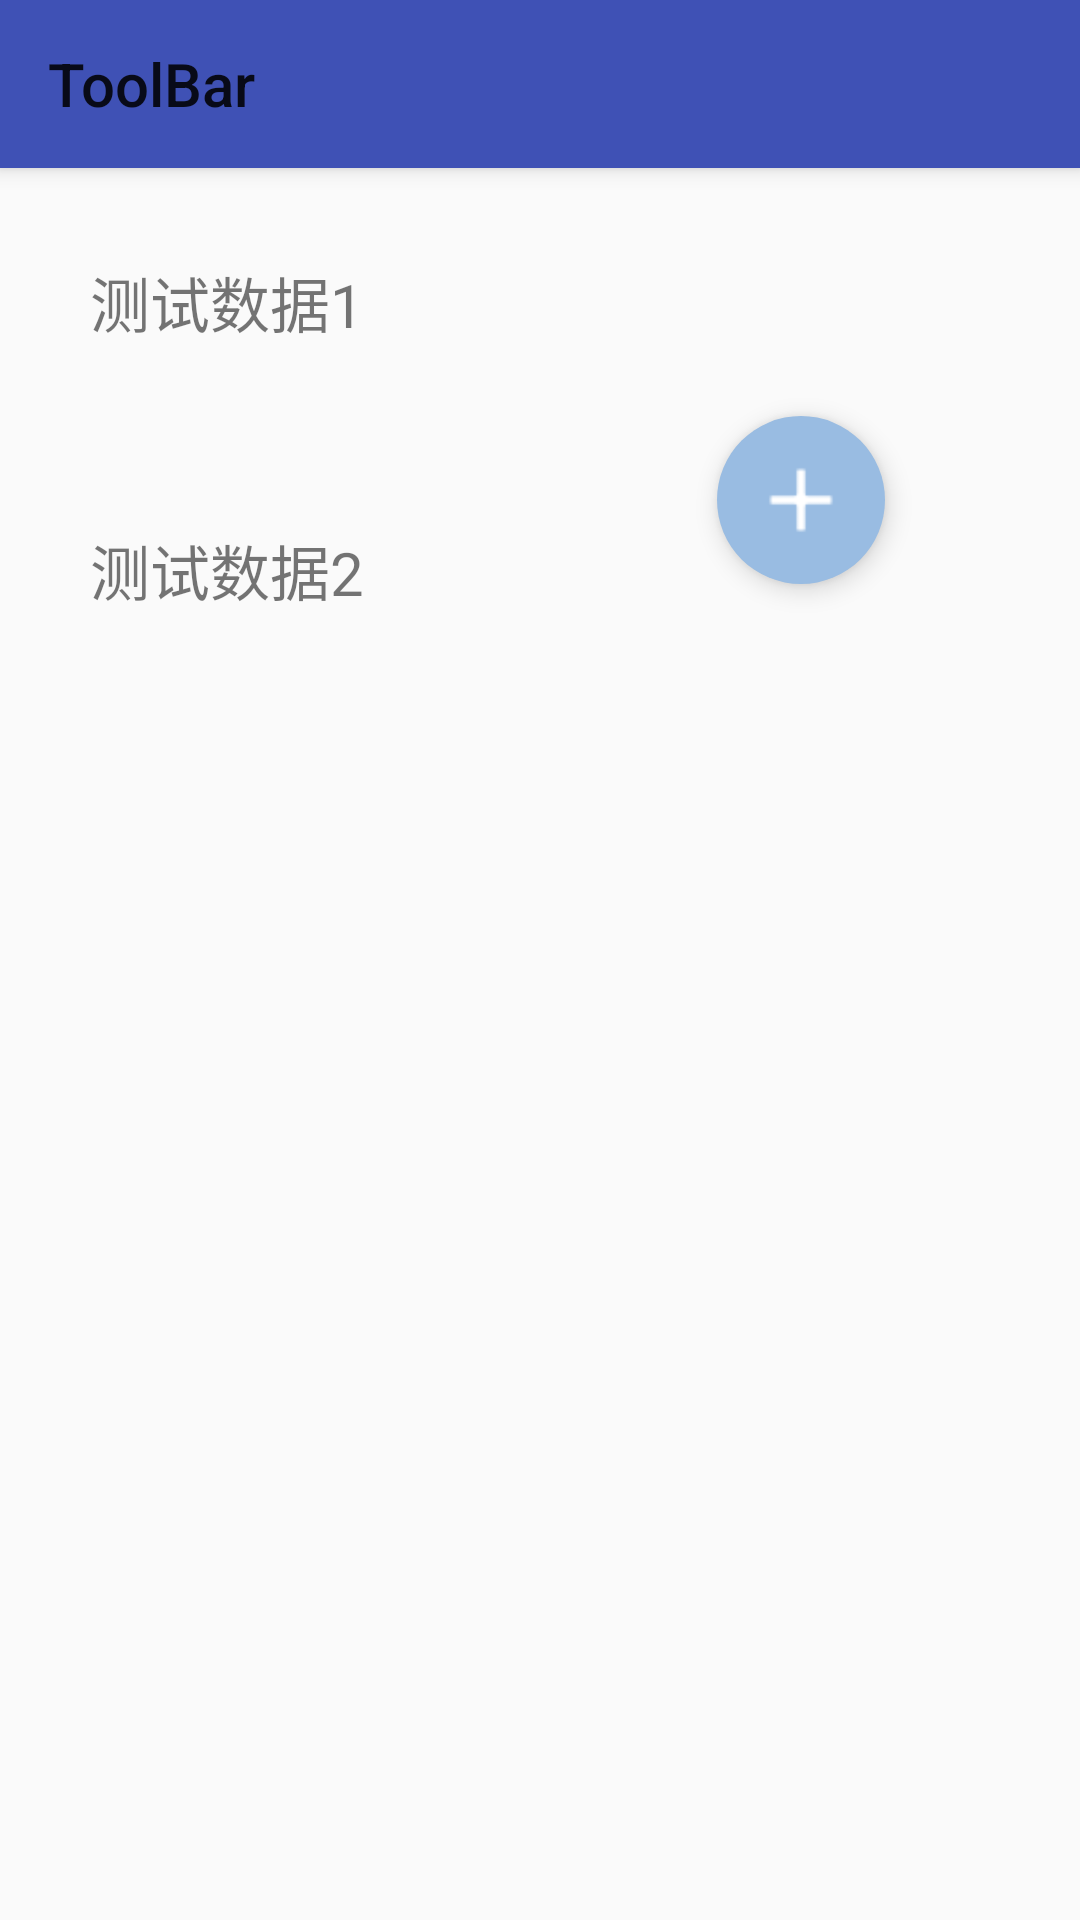

Screen size 1080 x 1920. Icon name, then its box in pixels as (x1, y1, x2, y2):
add: (717, 416, 887, 587)
